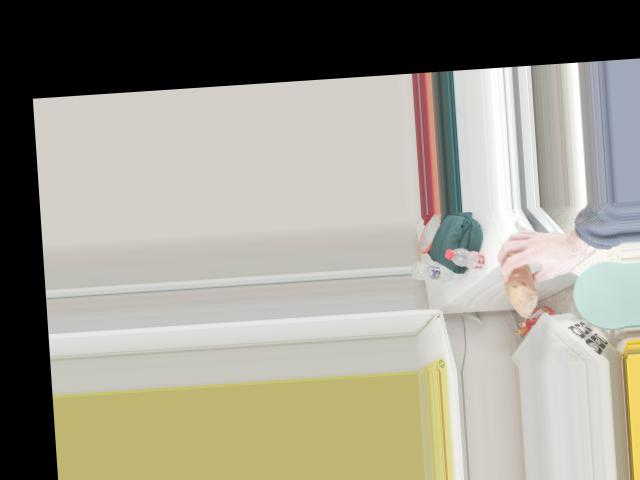sweet_potato: (506, 257, 531, 305)
